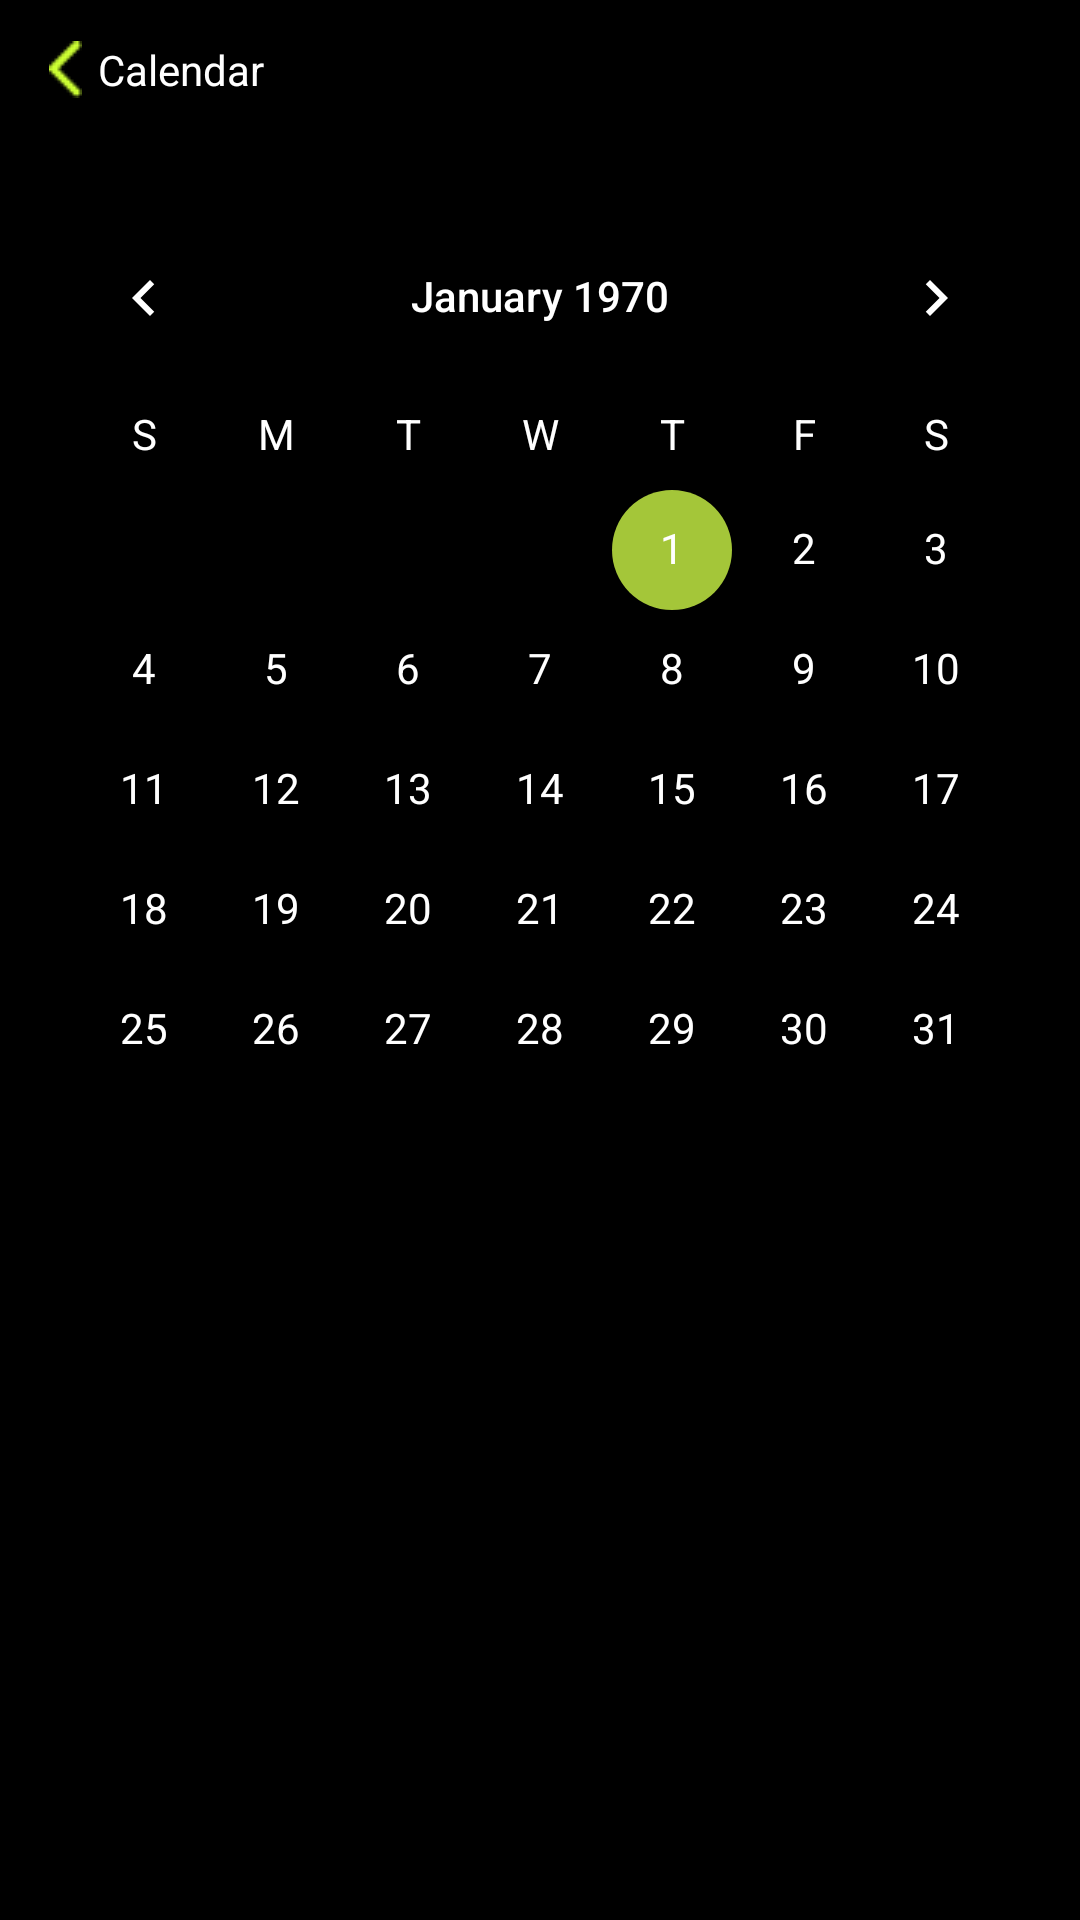

Screen size 1080px×1920px. Icon name, then its box in pixels as (x1, y1, x2, y2):
rikvercicon: (49, 41, 82, 98)
